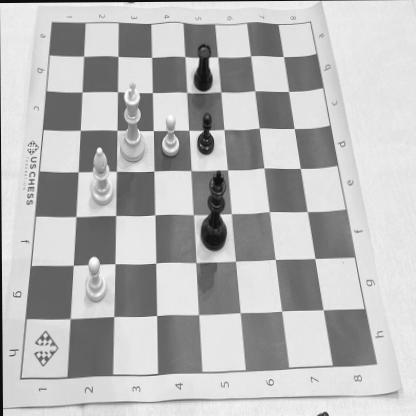black-king: (197, 168, 230, 255)
black-pawn: (196, 112, 215, 159)
black-rook: (191, 41, 215, 94)
white-bishop: (88, 145, 116, 207)
white-king: (120, 80, 147, 165)
white-pawn: (84, 254, 106, 304), (160, 110, 181, 158)
